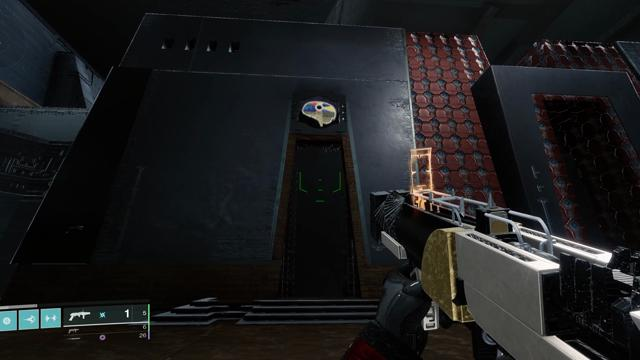brain: (298, 96, 341, 130)
